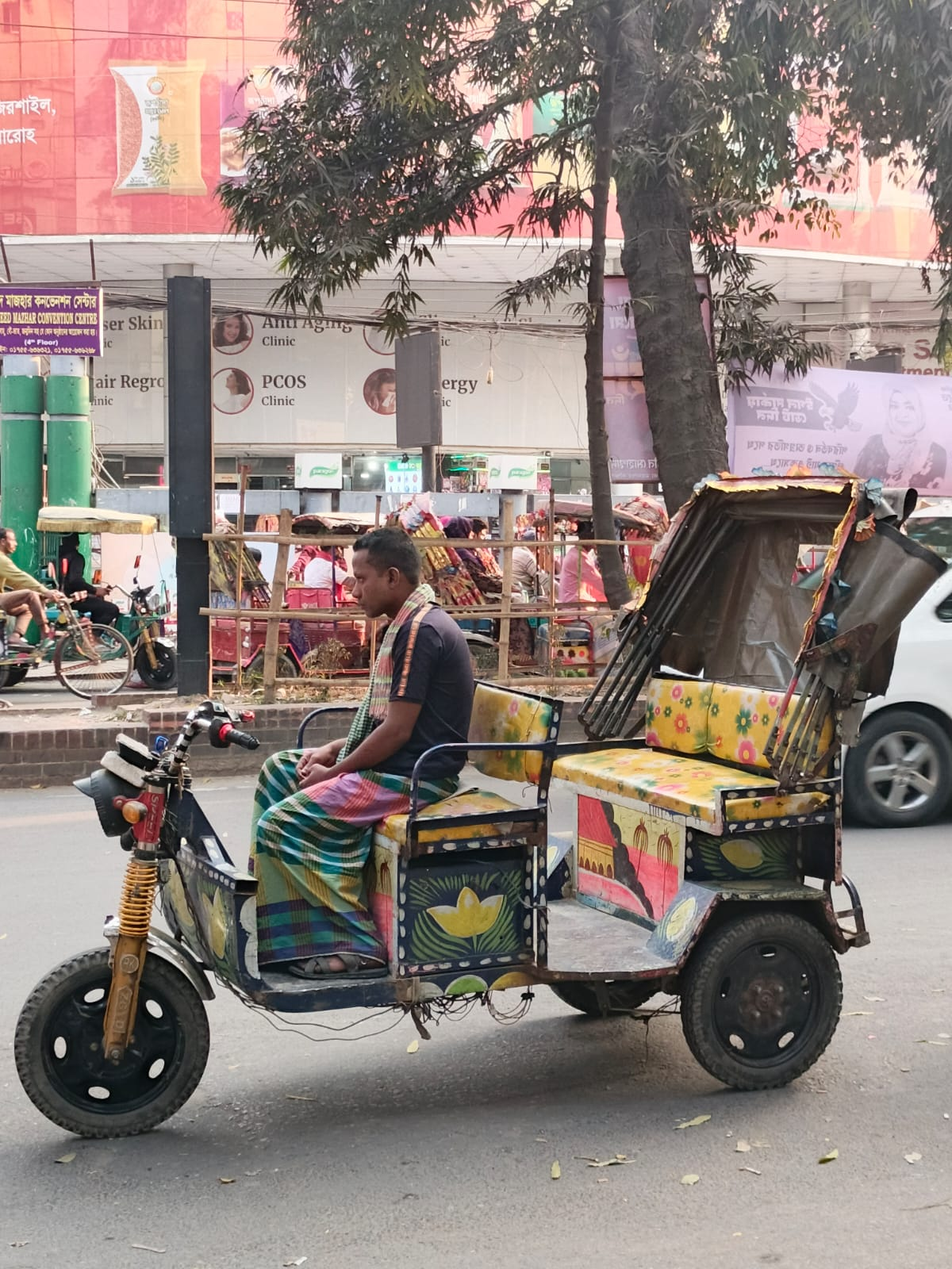auto-ricksaw: (25, 453, 893, 1130)
